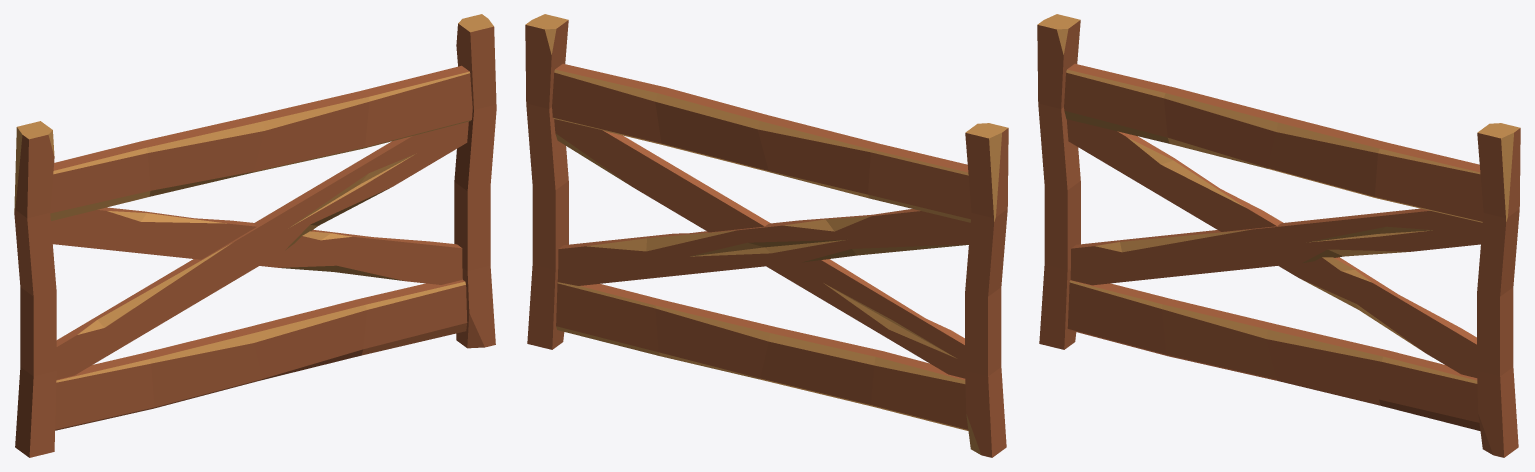
The model's file is Fence_1.fbx.
3 views of the same model, side by side, from view 1: azimuth 30°, elevation 25°; view 2: azimuth 150°, elevation 25°; view 3: azimuth 330°, elevation 25° (orthographic).
Parts seen in each view (by area): view 1: Fence_1; view 2: Fence_1; view 3: Fence_1.
Part boxes in pixels (x1=…): Fence_1: x1=14, y1=14, x2=496, y2=457; Fence_1: x1=525, y1=14, x2=1008, y2=457; Fence_1: x1=1037, y1=14, x2=1520, y2=457.
Size of the model in its own units: 61.98 by 40.33 by 3.8.
